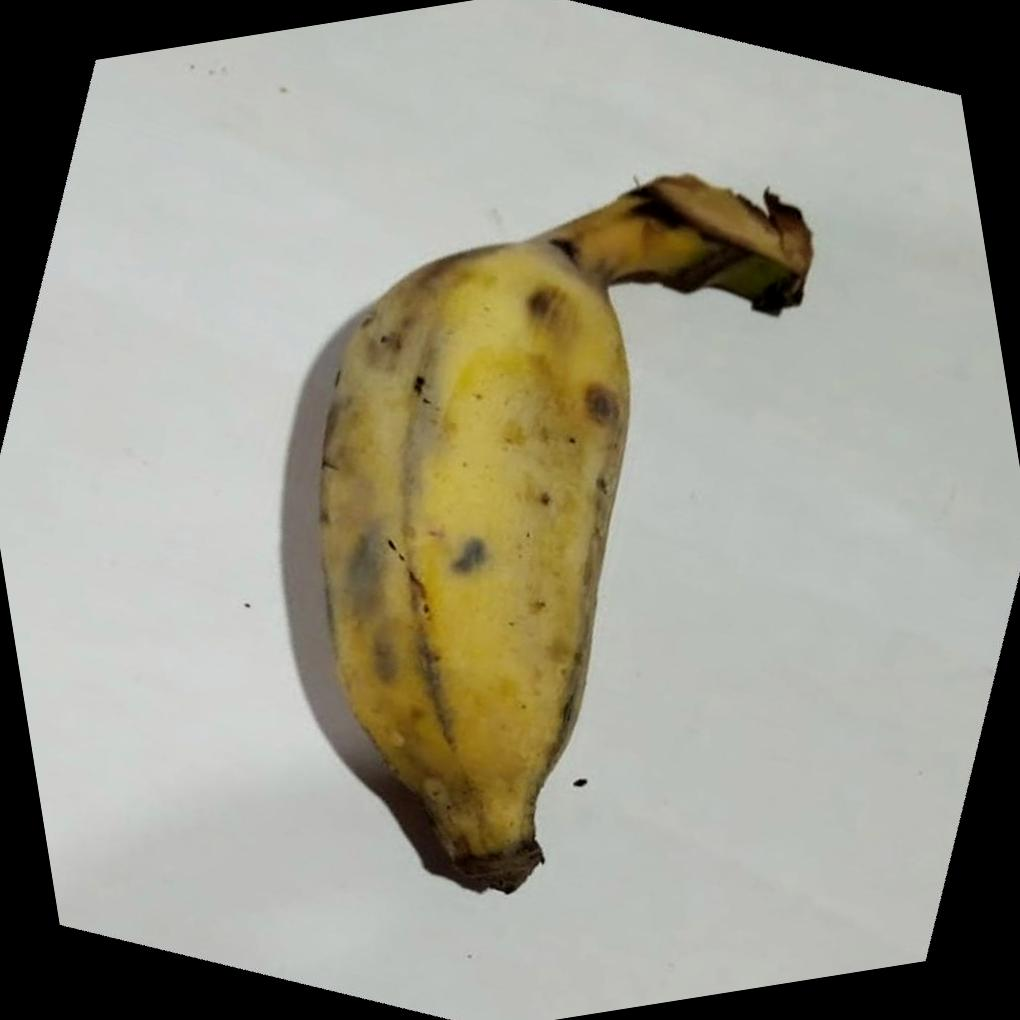Banana Ripe: (244, 146, 858, 949)
